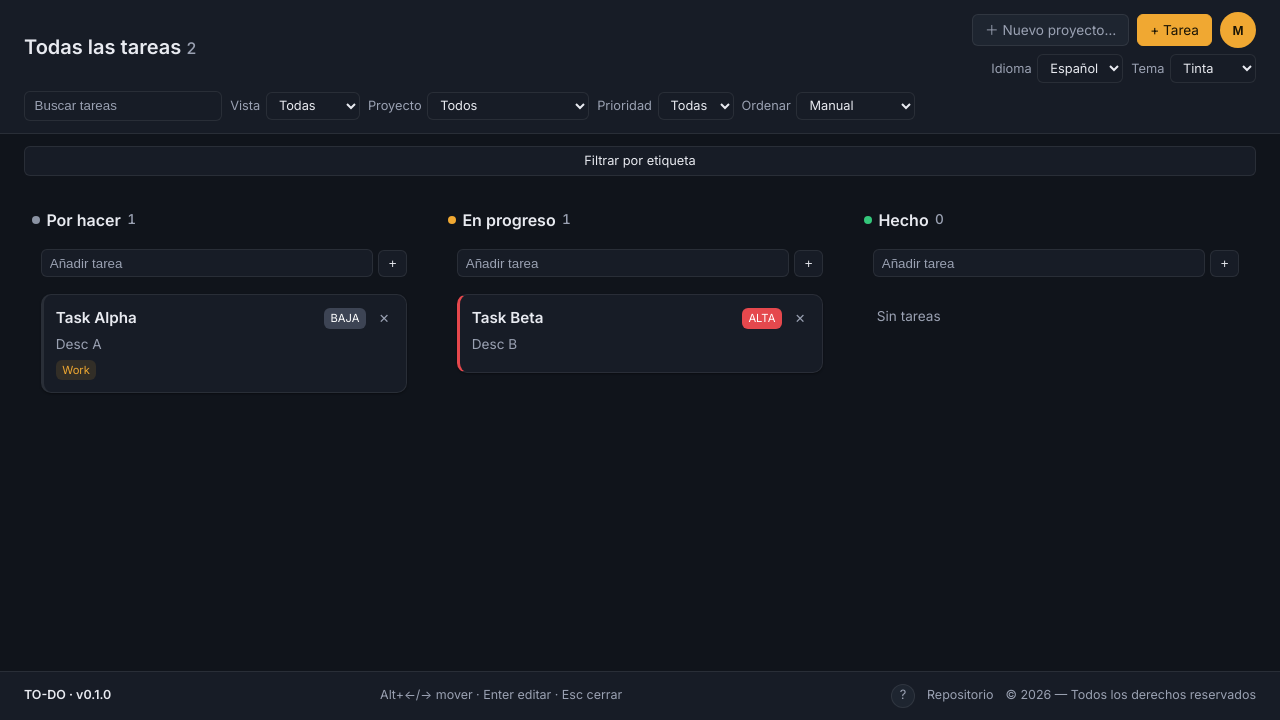
TodoListPage Kanban (through the repository seam) › offers undo after deleting a task
Expected: the text "Task Alpha" is shown, [56, 308, 137, 327]
Click the button named "Borrar tarea" at (384, 318), box [374, 309, 394, 328]
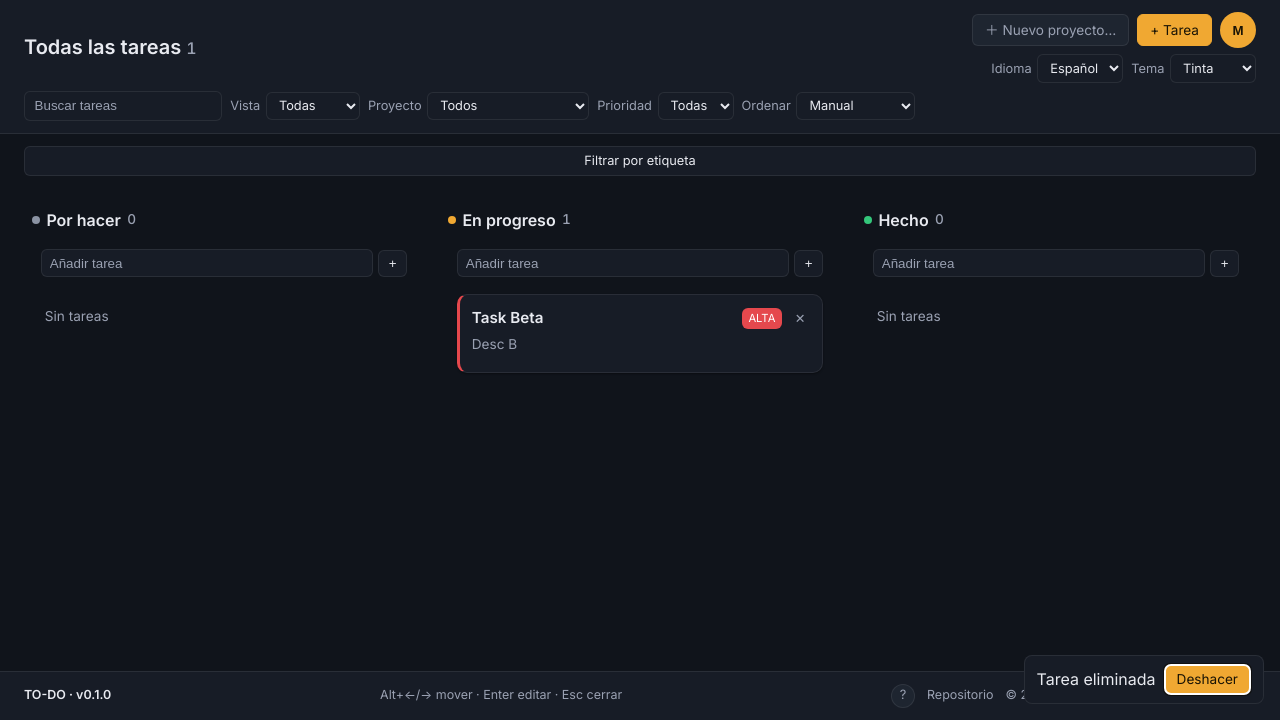
Expected: the button "Task Alpha" is gone
Click the button "Deshacer" at (1207, 679), box [1164, 664, 1251, 695]
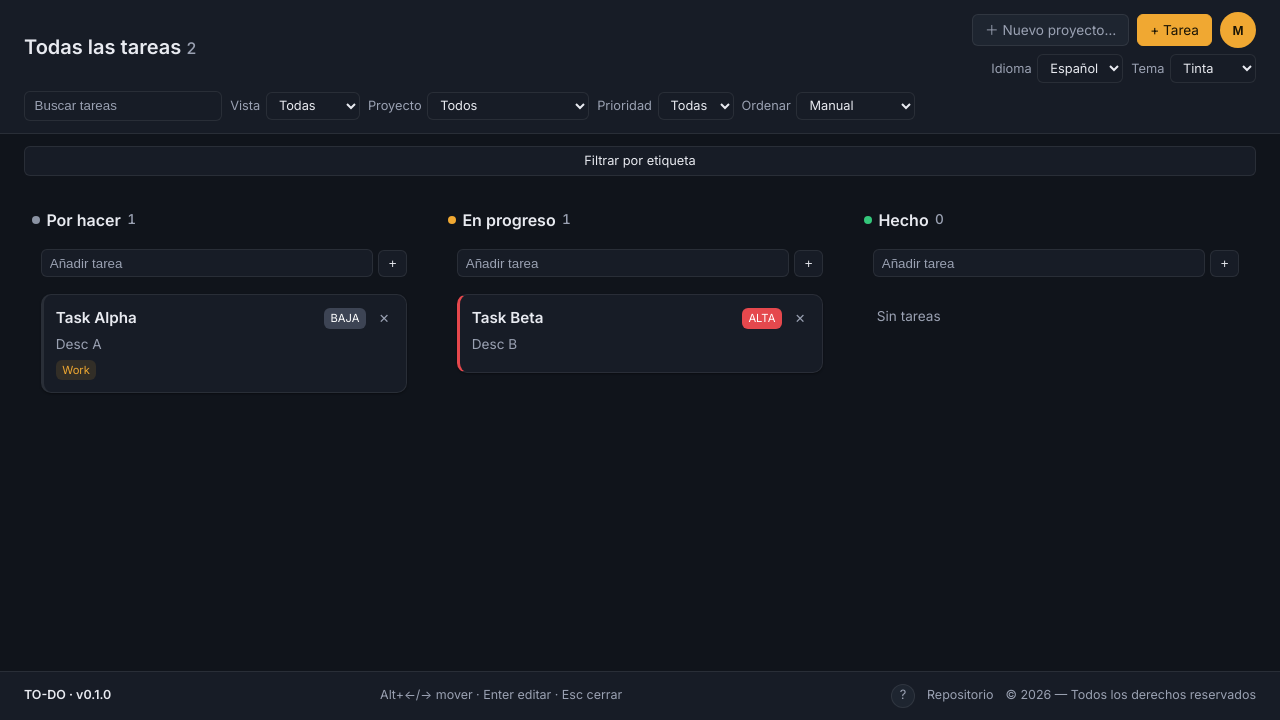
Expected: the text "Task Alpha" is shown, [56, 308, 137, 327]
